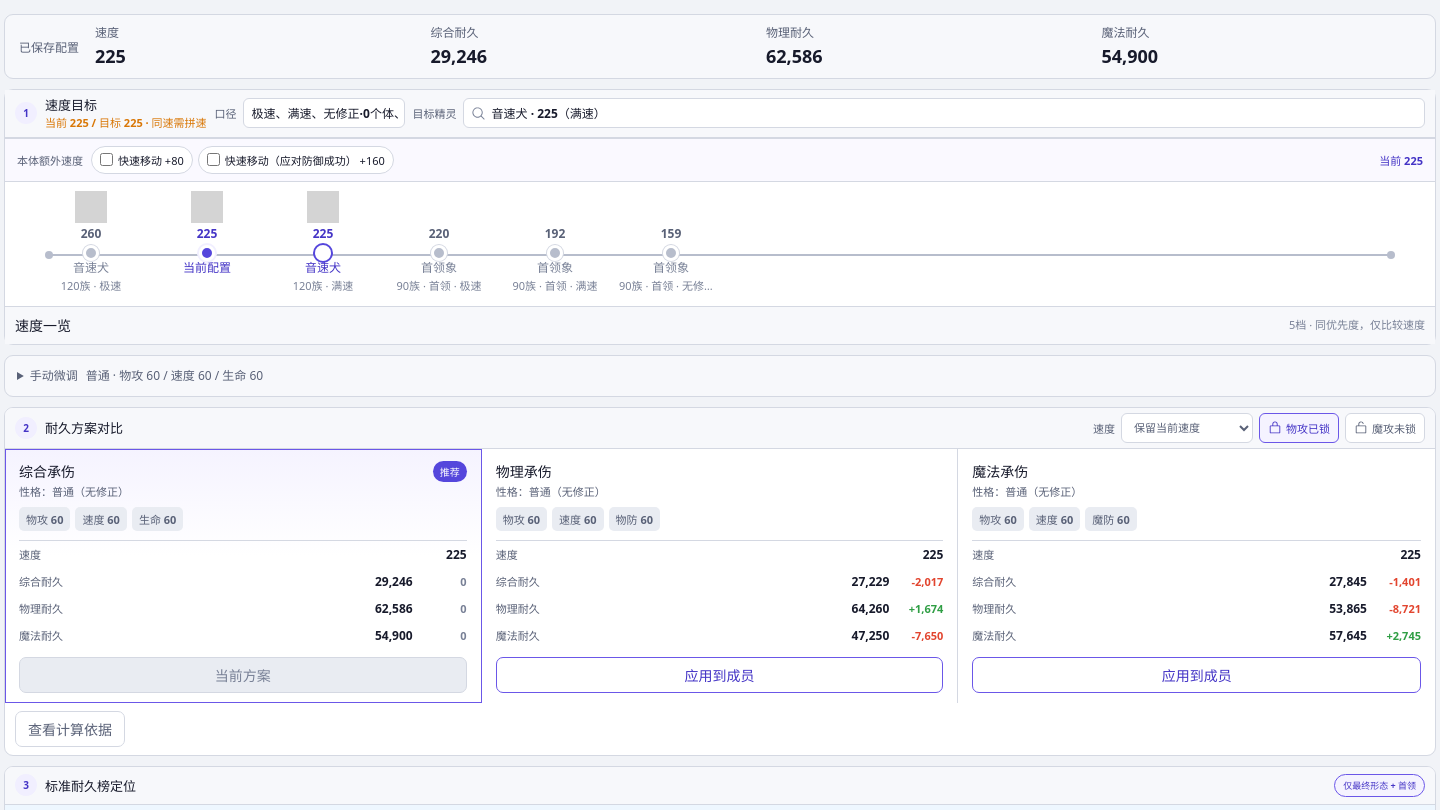
Test: 携带速度状态技能时可勾选并用加速后的本体速度比较
Expected: the text "当前 225" is shown, [1379, 152, 1423, 168]
Click the checkbox labelled "快速移动 +80" at (106, 160), box [100, 153, 113, 166]
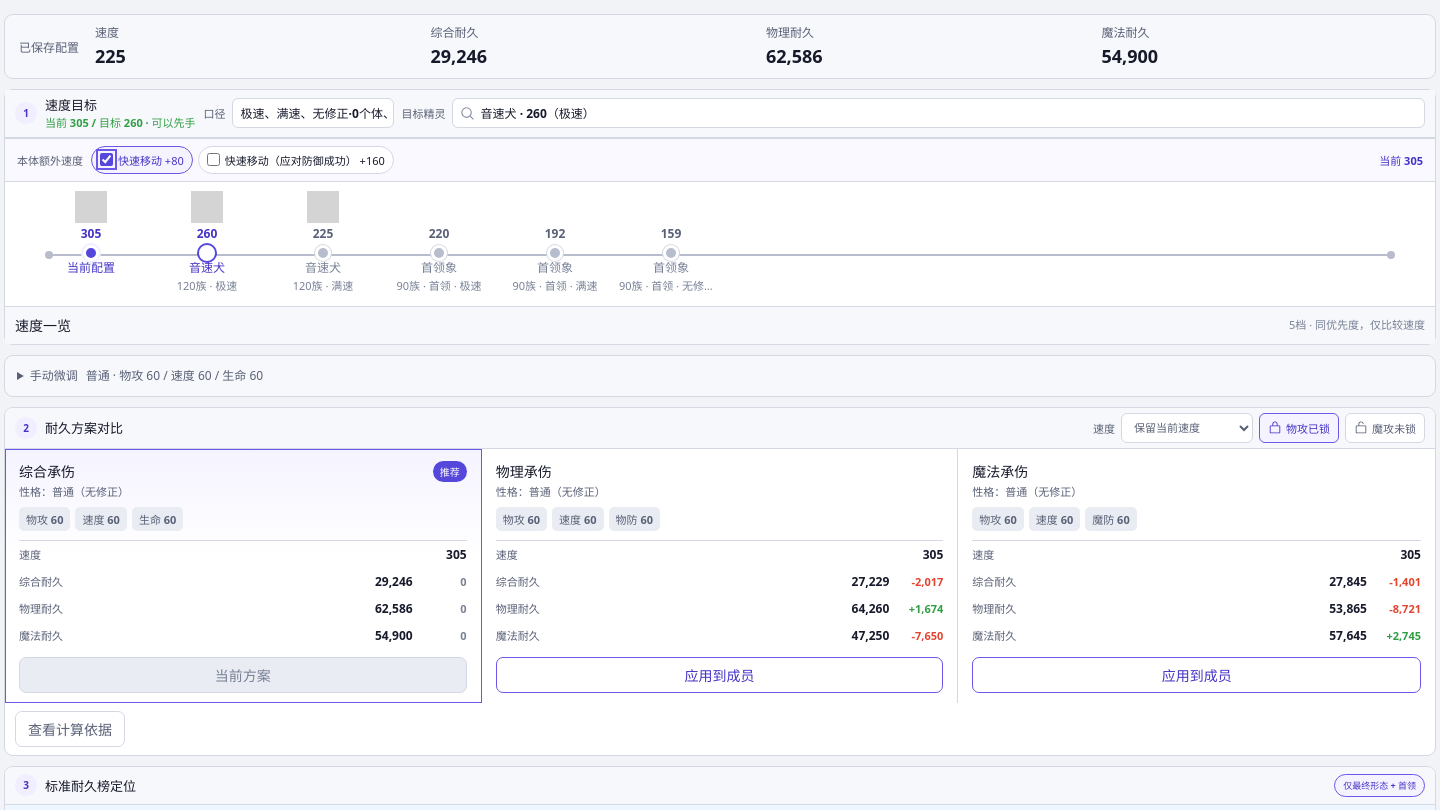
Expected: the text "当前 305" is shown, [1379, 152, 1423, 168]
Expected: the list item "当前配置" shows "305", [81, 225, 101, 242]
